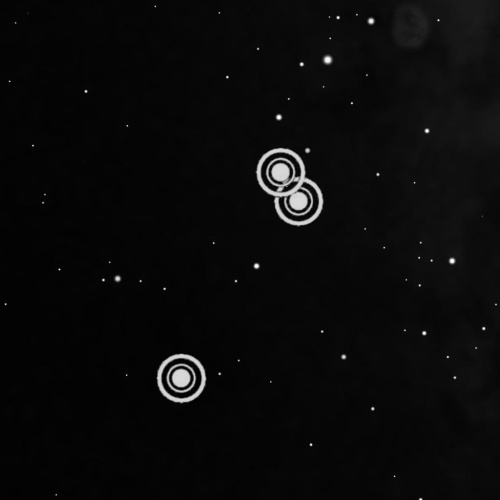canis_minor: (150, 141, 334, 415)
